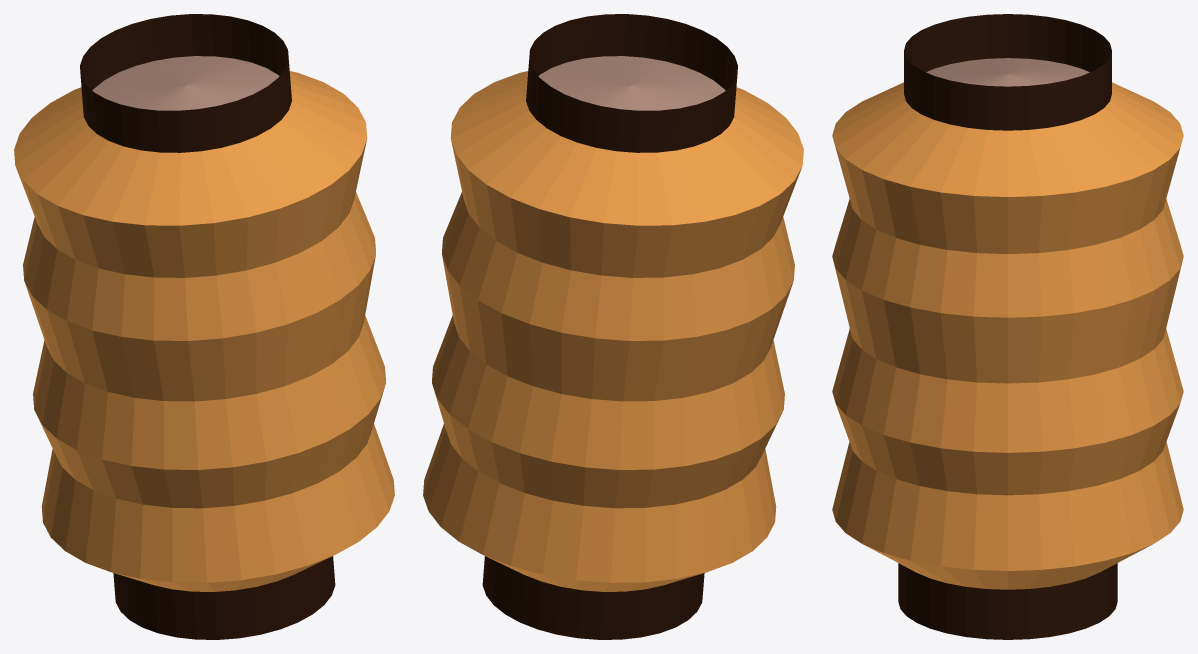
File: lantern_orange.dae
3 views of the same model, side by side, from view 1: azimuth 30°, elevation 25°; view 2: azimuth 150°, elevation 25°; view 3: azimuth 270°, elevation 25° (orthographic).
Parts seen in each view (by area): view 1: Cylinder; view 2: Cylinder; view 3: Cylinder.
Boxes of the visible parts, x1=… form: Cylinder: x1=14, y1=14, x2=394, y2=639; Cylinder: x1=423, y1=14, x2=803, y2=639; Cylinder: x1=832, y1=14, x2=1183, y2=639.
Bounding box in the file's own units: 0.8282 × 0.7619 × 1.31.
1 material, 1 textured.
